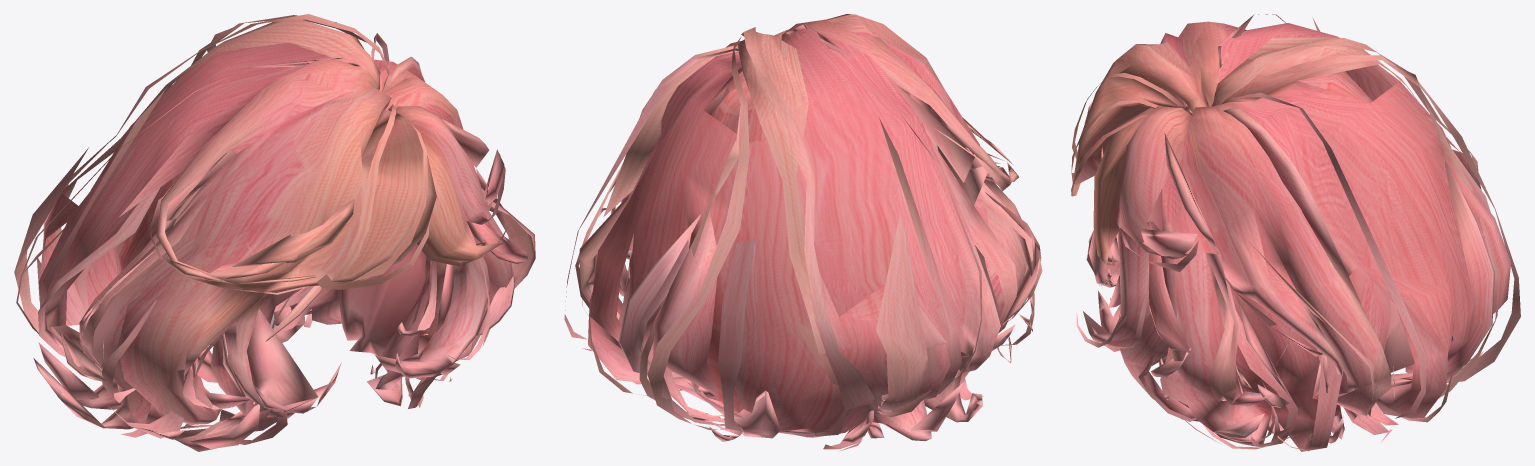
File: wig_pastel_meshy.glb
The picture shows the model from 3 angles, left to right: view 1: azimuth 30°, elevation 25°; view 2: azimuth 150°, elevation 25°; view 3: azimuth 270°, elevation 25°; orthographic projection. The views are drawn at different scales.
Bounding box in the file's own units: 0.9614 × 0.7285 × 0.8281.
Materials: 1 (1 with a texture image).
